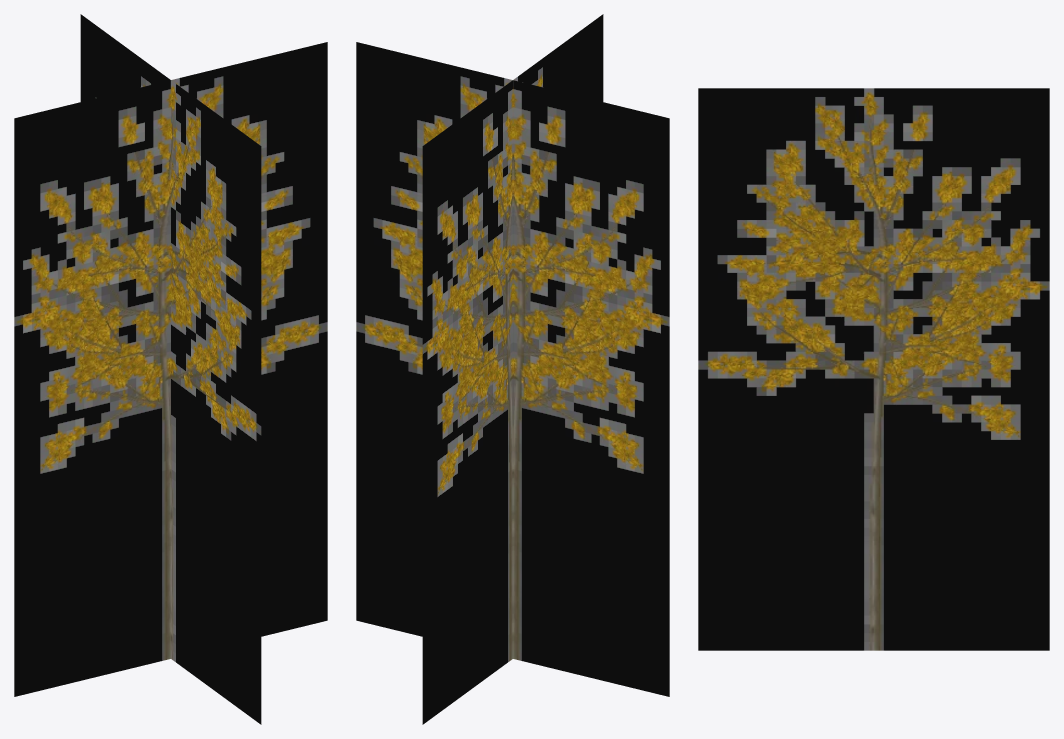
Rendered from aspen_medium_far.glb.
3 renders of one model, left to right at view 1: azimuth 30°, elevation 25°; view 2: azimuth 150°, elevation 25°; view 3: azimuth 270°, elevation 25°, orthographic. The views are drawn at different scales.
Visible parts, largest first — view 1: impostor; view 2: impostor; view 3: impostor.
Boxes of the visible parts, x1,y1,x2,y2 form: impostor: (14, 14, 327, 724); impostor: (356, 14, 669, 724); impostor: (698, 88, 1049, 650).
Size of the model in its own units: 6.79 by 12 by 6.79.
Materials: 1 (1 with a texture image).
